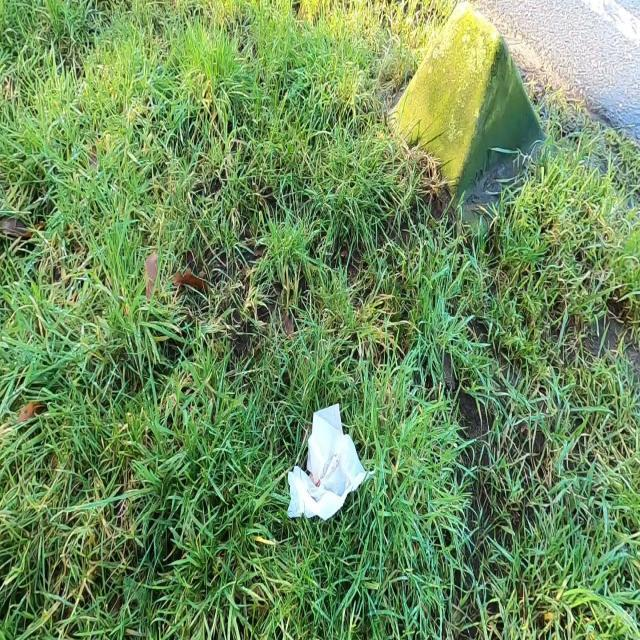Paper: (286, 402, 376, 522)
